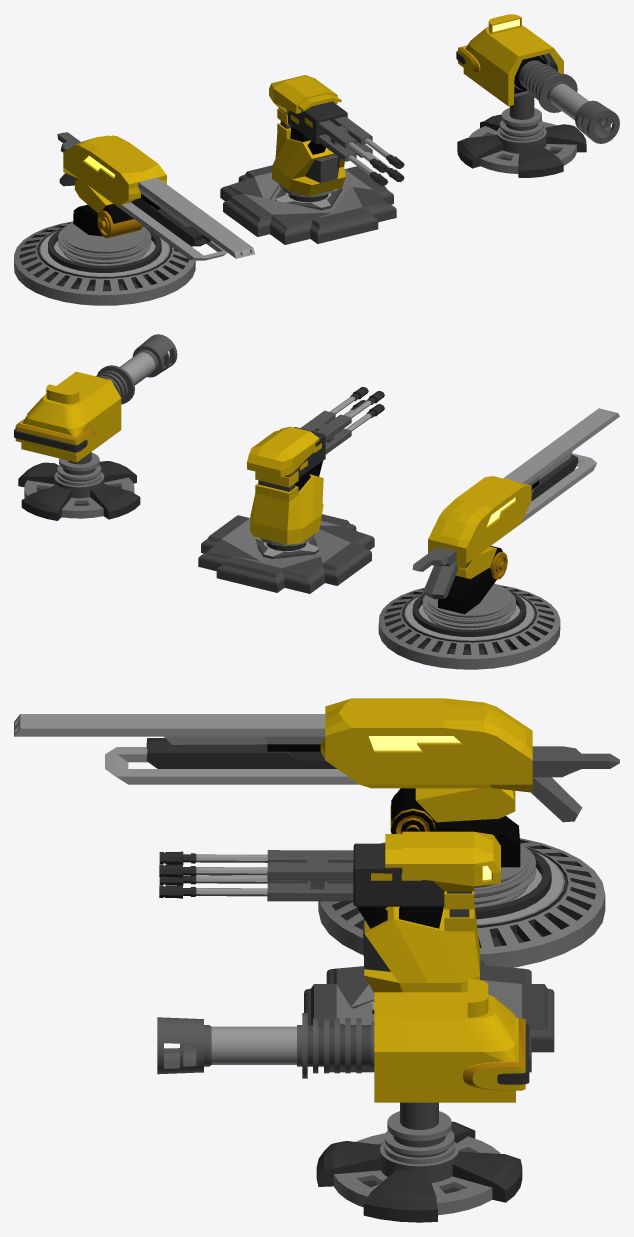
File: turrets.fbx
3 renders of one model, top to bottom at view 1: azimuth 30°, elevation 25°; view 2: azimuth 150°, elevation 25°; view 3: azimuth 270°, elevation 25°, orthographic. The views are drawn at different scales.
Parts seen in each view (by area): view 1: Railgun, Cube, rail gun stand, tower, stand, Cube.001, Cube.002, rail gun rotator, detail; view 2: Railgun, rail gun stand, Cube, tower, Cube.001, stand, Cube.002, rail gun rotator, detail; view 3: Railgun, tower, Cube.001, stand, Cube.002, rail gun stand, Cube, detail, rail gun rotator.
Boxes of the visible parts, x1=… form: Railgun: x1=57, y1=132, x2=254, y2=260; Cube: x1=220, y1=165, x2=396, y2=244; rail gun stand: x1=14, y1=221, x2=195, y2=305; tower: x1=463, y1=14, x2=619, y2=143; stand: x1=457, y1=94, x2=586, y2=177; Cube.001: x1=269, y1=75, x2=345, y2=196; Cube.002: x1=287, y1=101, x2=404, y2=185; rail gun rotator: x1=58, y1=222, x2=151, y2=265; detail: x1=456, y1=45, x2=480, y2=73; Railgun: x1=412, y1=408, x2=619, y2=614; rail gun stand: x1=378, y1=584, x2=560, y2=669; Cube: x1=198, y1=514, x2=374, y2=593; tower: x1=21, y1=334, x2=177, y2=462; Cube.001: x1=247, y1=426, x2=323, y2=544; stand: x1=18, y1=452, x2=140, y2=520; Cube.002: x1=294, y1=387, x2=384, y2=477; rail gun rotator: x1=423, y1=583, x2=515, y2=629; detail: x1=14, y1=419, x2=94, y2=455; Railgun: x1=14, y1=698, x2=619, y2=867; tower: x1=157, y1=979, x2=515, y2=1102; Cube.001: x1=357, y1=831, x2=500, y2=992; stand: x1=316, y1=1102, x2=522, y2=1222; Cube.002: x1=159, y1=843, x2=444, y2=906; rail gun stand: x1=318, y1=838, x2=605, y2=967; Cube: x1=304, y1=959, x2=554, y2=1072; detail: x1=463, y1=1017, x2=529, y2=1090; rail gun rotator: x1=474, y1=843, x2=536, y2=907.
Bounding box in the file's own units: 556 × 145 × 341.
